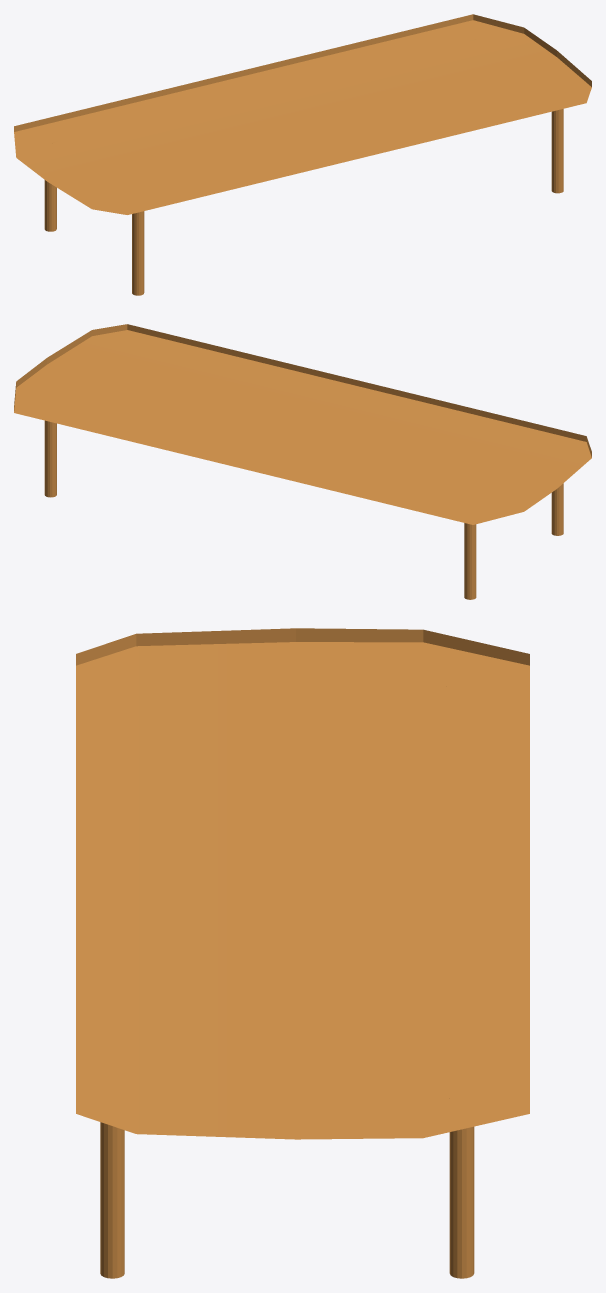
Rendered from table2.gltf.
3 renders of one model, top to bottom at view 1: azimuth 30°, elevation 25°; view 2: azimuth 150°, elevation 25°; view 3: azimuth 270°, elevation 25°, orthographic. The views are drawn at different scales.
Parts seen in each view (by area): view 1: Cube_012_Cube.022; view 2: Cube_012_Cube.022; view 3: Cube_012_Cube.022.
Boxes of the visible parts, <box> form: Cube_012_Cube.022: <box>14,14,591,295</box>; Cube_012_Cube.022: <box>14,324,591,599</box>; Cube_012_Cube.022: <box>76,628,529,1278</box>.
Bounding box in the file's own units: 2.87 × 0.5154 × 1.11.
